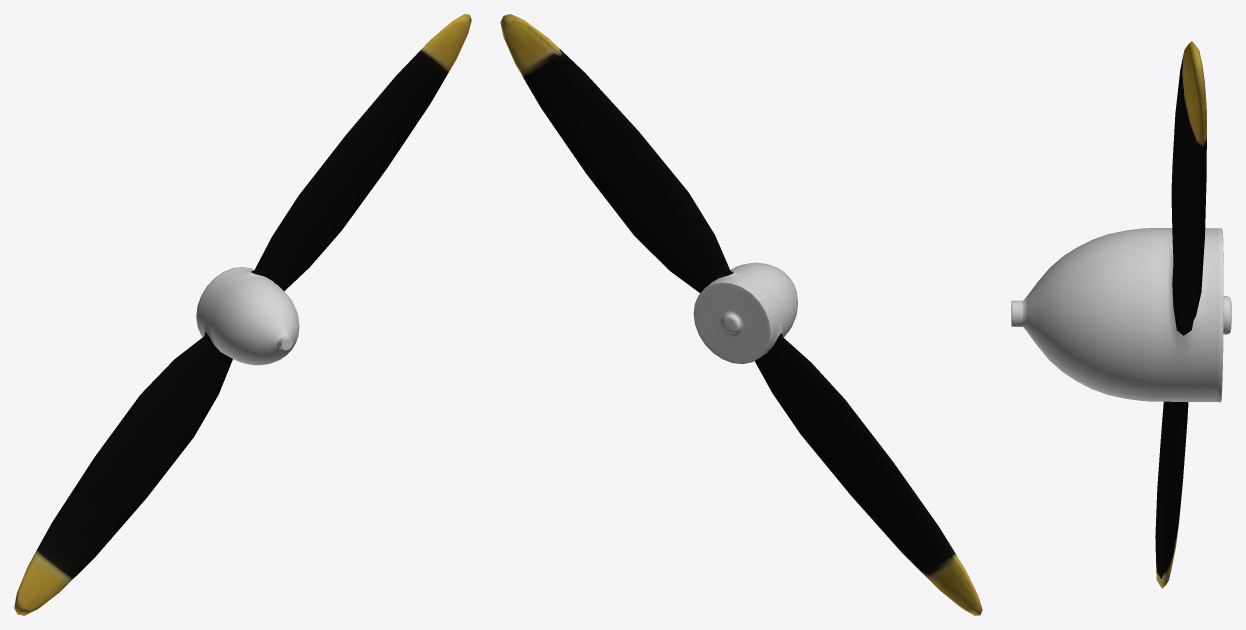
File: CessnaProp.obj
3 renders of one model, left to right at view 1: azimuth 30°, elevation 25°; view 2: azimuth 150°, elevation 25°; view 3: azimuth 270°, elevation 25°, orthographic. The views are drawn at different scales.
Visible parts, largest first — view 1: A23DOBJ_005_Mesh.004; view 2: A23DOBJ_005_Mesh.004; view 3: A23DOBJ_005_Mesh.004.
Part boxes in pixels (box(x1,y1,x2,y2)): A23DOBJ_005_Mesh.004: box(14, 14, 471, 615); A23DOBJ_005_Mesh.004: box(500, 14, 982, 615); A23DOBJ_005_Mesh.004: box(1011, 41, 1231, 588).
Size of the model in its own units: 1.11 by 1.11 by 0.2276.
Materials: 1 (1 with a texture image).
